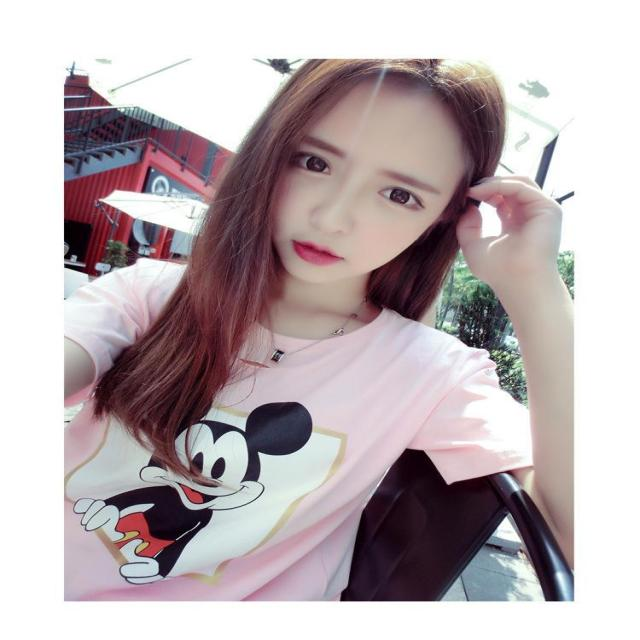short-sleeve-top: (69, 255, 540, 598)
